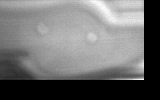cell: (32, 19, 52, 38), (82, 28, 101, 46)
